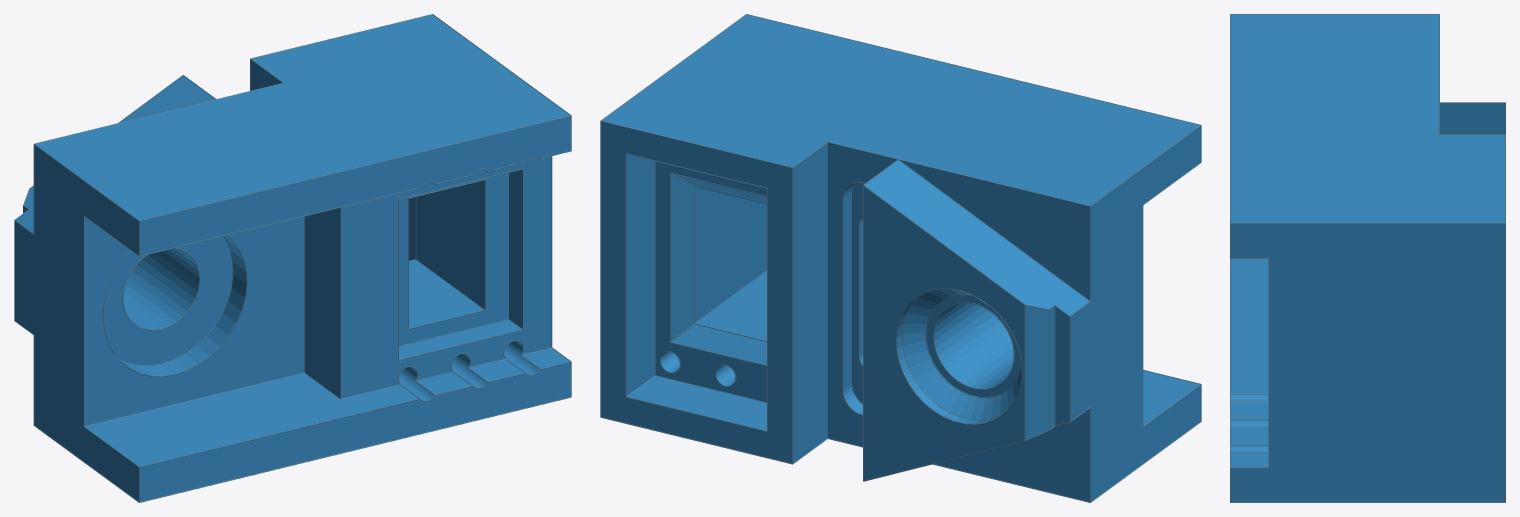
The model's file is model_full_blue_edges.glb.
The picture shows the model from 3 angles, left to right: view 1: azimuth 30°, elevation 25°; view 2: azimuth 150°, elevation 25°; view 3: azimuth 270°, elevation 25°; orthographic projection. The views are drawn at different scales.
Parts seen in each view (by area): view 1: model_full.stl, navy_edge_overlay; view 2: model_full.stl, navy_edge_overlay; view 3: model_full.stl, navy_edge_overlay.
Part boxes in pixels (x1=…): model_full.stl: x1=15, y1=15, x2=570, y2=501; navy_edge_overlay: x1=14, y1=14, x2=571, y2=502; model_full.stl: x1=601, y1=15, x2=1200, y2=501; navy_edge_overlay: x1=600, y1=14, x2=1201, y2=502; model_full.stl: x1=1231, y1=14, x2=1504, y2=501; navy_edge_overlay: x1=1230, y1=14, x2=1505, y2=502.
Size of the model in its own units: 90.19 by 56.18 by 50.19.
